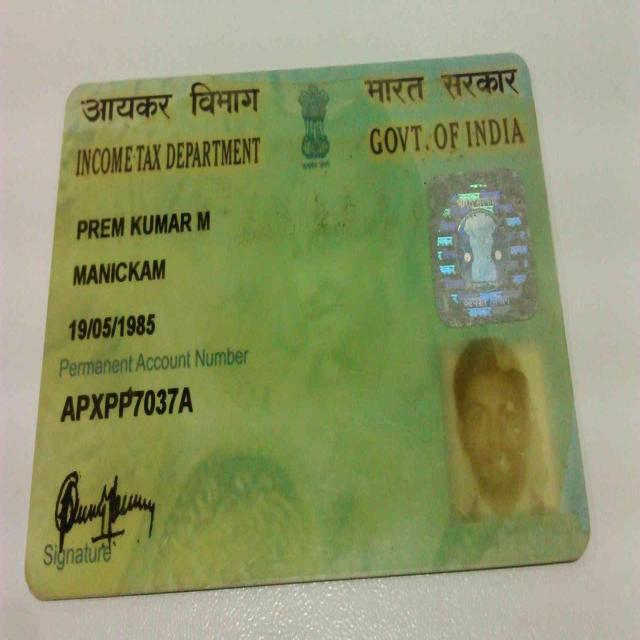pan_card: (28, 60, 591, 597)
